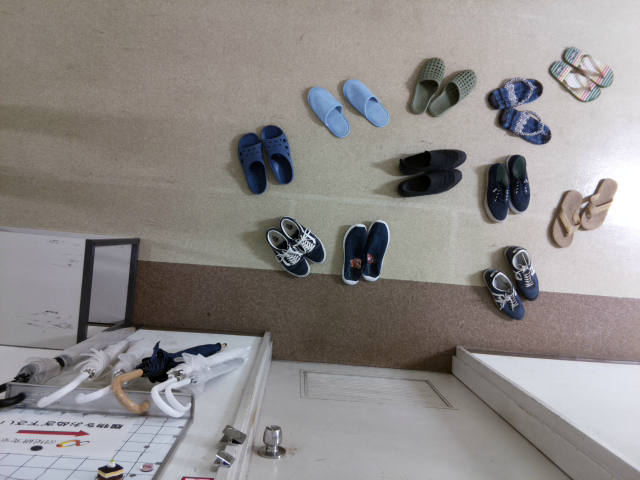Copy of Copy of Copy of Copy of Copy of Copy of Copy of Copy of shoes: (503, 245, 540, 302)
Copy of Copy of Copy of Copy of Copy of Copy of Copy of shoes: (482, 268, 524, 320)
Copy of Copy of Copy of Copy of Copy of Copy of shoes: (505, 152, 531, 214)
Copy of Copy of Copy of Copy of Copy of sandal: (580, 178, 617, 230)
Copy of Copy of Copy of Copy of Copy of shoes: (484, 162, 508, 223)
Copy of Copy of Copy of Copy of sandal: (550, 189, 581, 247)
Copy of Copy of Copy of Copy of shoes: (398, 149, 466, 176)
Copy of Copy of Copy of sandal: (562, 44, 614, 88)
Copy of Copy of Copy of shoes: (396, 166, 463, 198)
Copy of Copy of Copy of slipper: (426, 68, 478, 116)
Copy of Copy of sandal: (549, 61, 600, 102)
Copy of Copy of shoes: (362, 220, 391, 280)
Copy of Copy of slipper: (407, 56, 444, 115)
Copy of sandal: (485, 75, 542, 108)
Copy of shoes: (341, 222, 365, 285)
Copy of slipper: (341, 78, 389, 126), (261, 124, 293, 184)
sandal: (498, 108, 553, 145)
shoes: (278, 215, 328, 265), (265, 226, 310, 277)
slipper: (307, 86, 349, 137), (237, 131, 266, 195)
